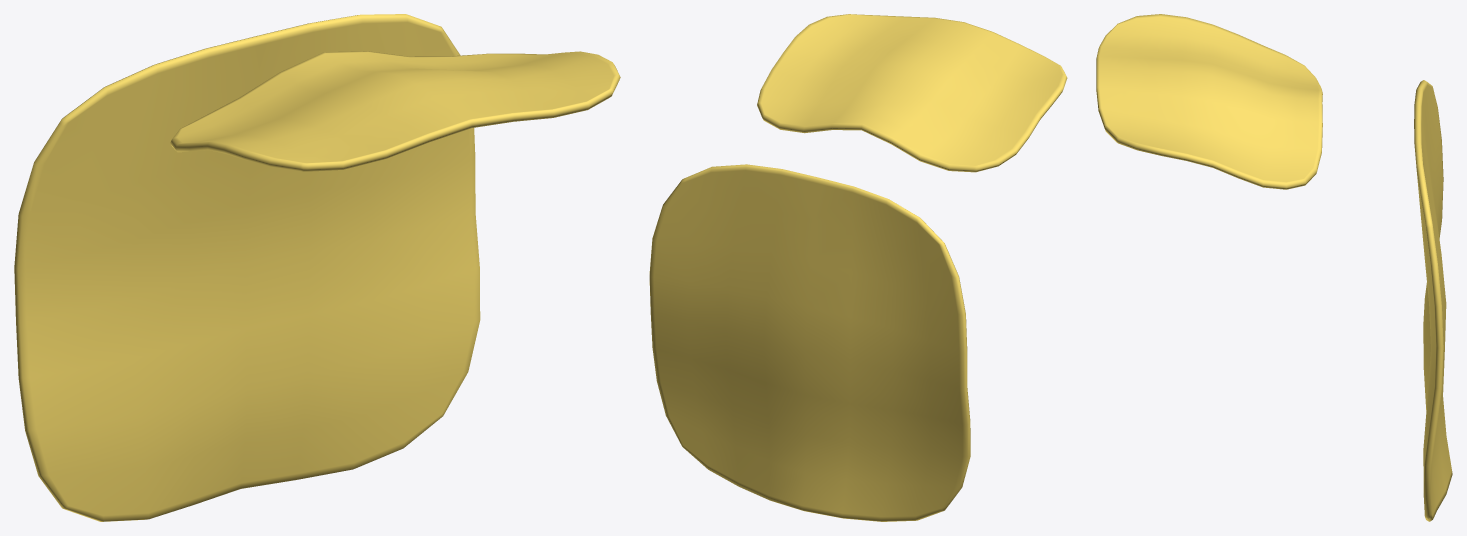
The model's file is ChairmeshChair_2_0_GeomSubset_1.obj.
3 views of the same model, side by side, from view 1: azimuth 30°, elevation 25°; view 2: azimuth 150°, elevation 25°; view 3: azimuth 270°, elevation 25° (orthographic). The views are drawn at different scales.
Parts seen in each view (by area): view 1: ChairmeshChair_2_0_GeomSubset_1; view 2: ChairmeshChair_2_0_GeomSubset_1; view 3: ChairmeshChair_2_0_GeomSubset_1.
Part boxes in pixels (x1,y1,x2,y2): ChairmeshChair_2_0_GeomSubset_1: (14,14,620,521); ChairmeshChair_2_0_GeomSubset_1: (649,14,1067,521); ChairmeshChair_2_0_GeomSubset_1: (1096,14,1452,521).
Size of the model in its own units: 0.401 by 0.4486 by 0.3548.
